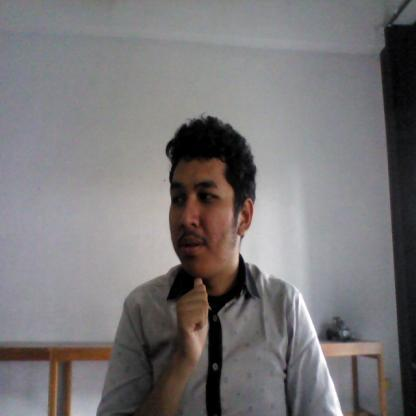Siapa: (172, 267, 217, 370)
